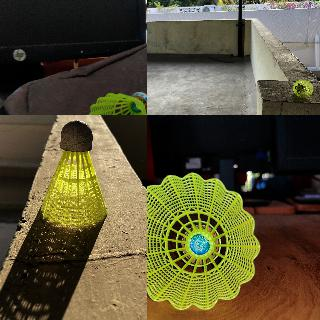shuttlecock: (147, 172, 259, 309), (41, 120, 107, 226), (88, 91, 146, 114), (292, 79, 312, 97)
